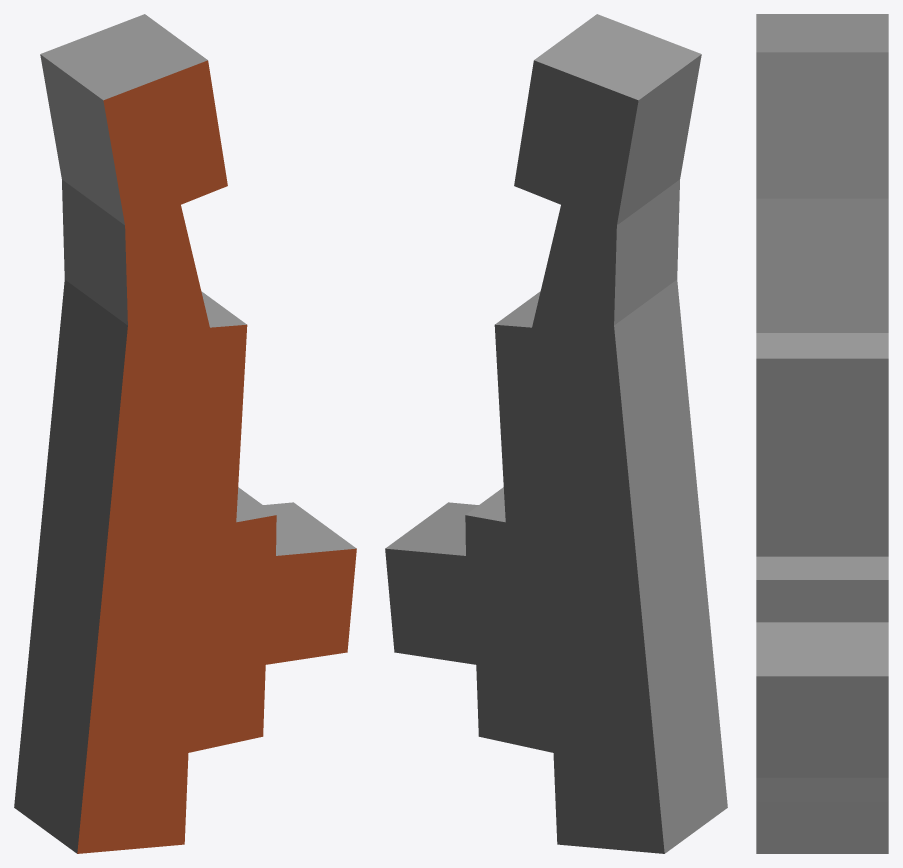
Rendered from construction_6872_assumed_A_Casa_h6m.obj.
3 renders of one model, left to right at view 1: azimuth 30°, elevation 25°; view 2: azimuth 150°, elevation 25°; view 3: azimuth 270°, elevation 25°, orthographic. The views are drawn at different scales.
Visible parts, largest first — view 1: construction_6872_assumed_A_Casa; view 2: construction_6872_assumed_A_Casa; view 3: construction_6872_assumed_A_Casa.
Boxes of the visible parts, bbox=[...] form: construction_6872_assumed_A_Casa: bbox=[14, 14, 356, 853]; construction_6872_assumed_A_Casa: bbox=[385, 14, 727, 853]; construction_6872_assumed_A_Casa: bbox=[756, 14, 888, 853].
Bounding box in the file's own units: 15.32 × 40.77 × 6.
